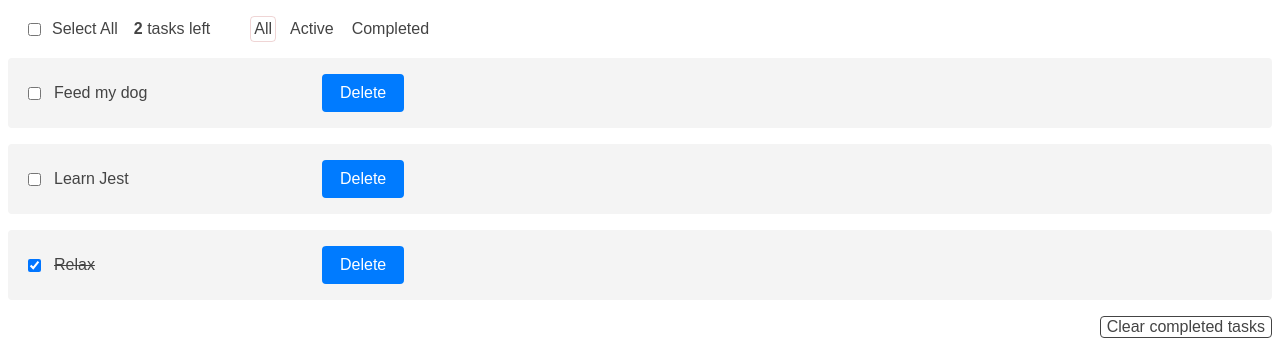
Should display only active tasks
The width and height of the screenshot is (1280, 355).
Click the list item "Active": {"x": 312, "y": 28} [290, 20, 334, 37]
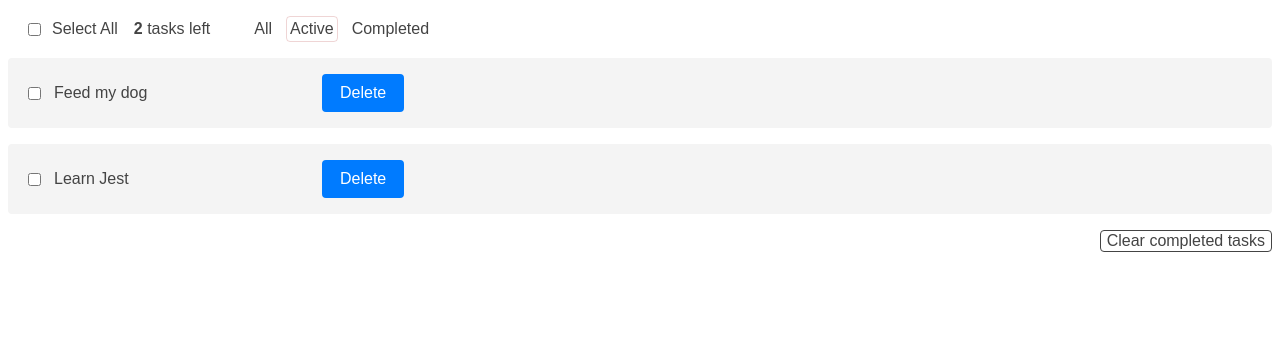
Expected: the number of list items with test id "todo" is 2, [8, 58, 1272, 128]; [8, 144, 1272, 214]
